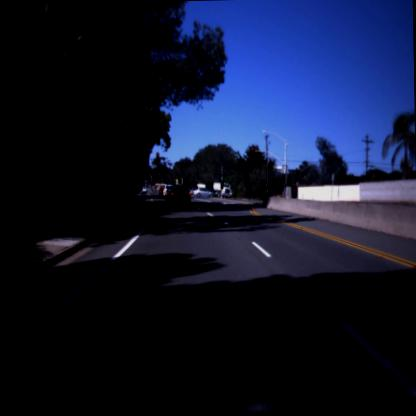trafficlight: (247, 142, 257, 162)
